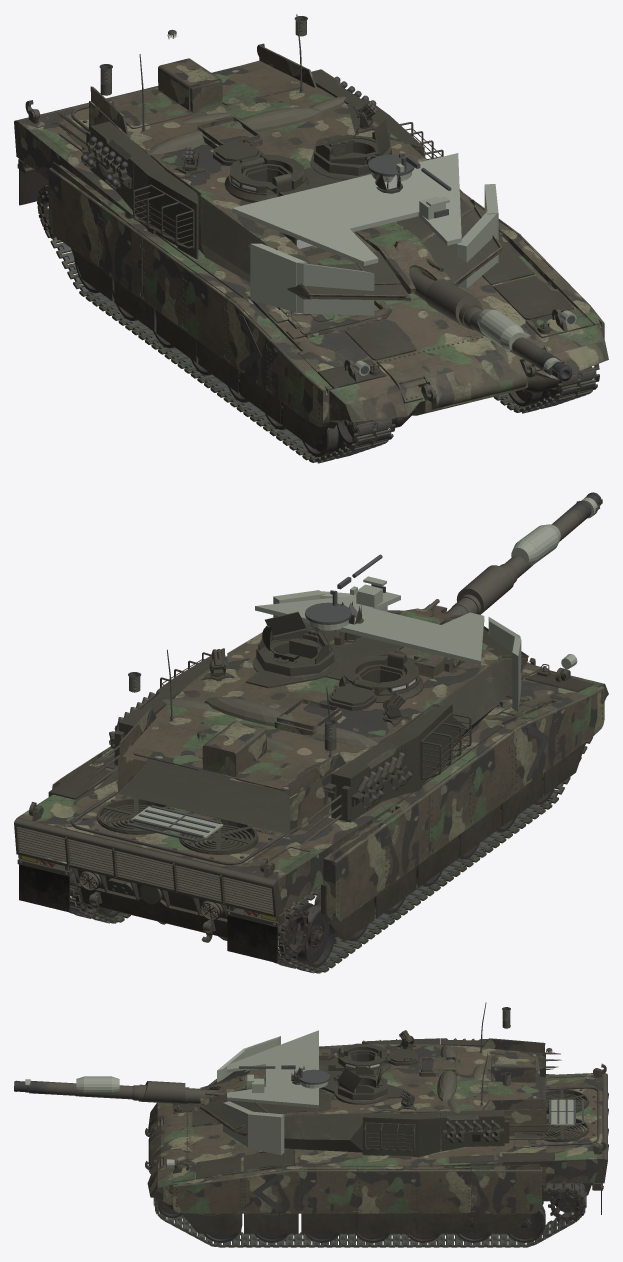
File: m1a1_dannzjs_variant.glb
3 views of the same model, one above another, from view 1: azimuth 30°, elevation 25°; view 2: azimuth 150°, elevation 25°; view 3: azimuth 270°, elevation 25° (orthographic). The views are drawn at different scales.
Visible parts, largest first — view 1: TurretPivot, Object_19, Object_11, GunPivot, Object_12, RoofCap.001, Object_8, Object_9, RoofCap.002, RoofCap, CheekFront, CheekShoulder (+9 smaller); view 2: TurretPivot, Object_11, Object_19, Object_12, GunPivot, Object_9, Object_8, RoofCap.001, RoofCap.002, Object_21, Object_5, Duffel.001 (+9 smaller); view 3: TurretPivot, Object_19, Object_11, Object_12, Object_8, GunPivot, Object_21, RoofCap, RoofCap.001, CheekShoulder.001, Object_9, Object_20 (+11 smaller).
Part boxes in pixels (x1,y1,x2,y2): TurretPivot: [54, 14, 502, 315]; Object_19: [48, 87, 604, 427]; Object_11: [14, 67, 608, 427]; GunPivot: [355, 222, 572, 381]; Object_12: [71, 248, 594, 448]; RoofCap.001: [232, 189, 378, 265]; Object_8: [37, 186, 599, 462]; Object_9: [38, 185, 592, 462]; RoofCap.002: [311, 174, 418, 231]; RoofCap: [390, 153, 461, 245]; CheekFront: [297, 262, 374, 315]; CheekShoulder: [250, 243, 307, 312]; TurretPivot: [85, 601, 528, 844]; Object_11: [14, 670, 608, 962]; Object_19: [52, 663, 604, 921]; Object_12: [321, 742, 585, 941]; GunPivot: [399, 492, 602, 624]; Object_9: [70, 739, 590, 972]; Object_8: [70, 737, 592, 972]; RoofCap.001: [402, 612, 484, 665]; RoofCap.002: [336, 608, 440, 646]; Object_21: [87, 774, 554, 967]; Object_5: [71, 724, 548, 864]; Duffel.001: [204, 697, 292, 726]; TurretPivot: [200, 1002, 561, 1157]; Object_19: [148, 1087, 602, 1213]; Object_11: [147, 1073, 608, 1214]; Object_12: [168, 1183, 543, 1233]; Object_8: [154, 1183, 585, 1247]; GunPivot: [14, 1075, 265, 1105]; Object_21: [204, 1200, 545, 1242]; RoofCap: [227, 1083, 318, 1107]; RoofCap.001: [227, 1030, 318, 1072]; CheekShoulder.001: [248, 1111, 284, 1155]; Object_9: [155, 1183, 585, 1247]; Object_20: [157, 1184, 586, 1223].
Size of the model in its own units: 5.01 by 4.13 by 12.75.
Materials: 21 (16 with a texture image).
